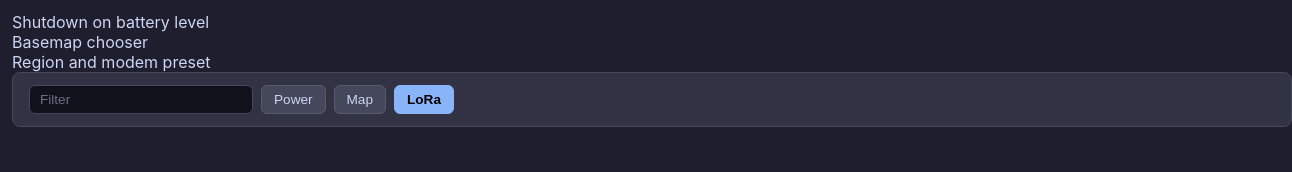
Test: SectionNav filter › matches a section by text rendered inside it, not just its heading
Type "battery" into the search field.
click(141, 100); type("battery")  # box [29, 85, 253, 114]
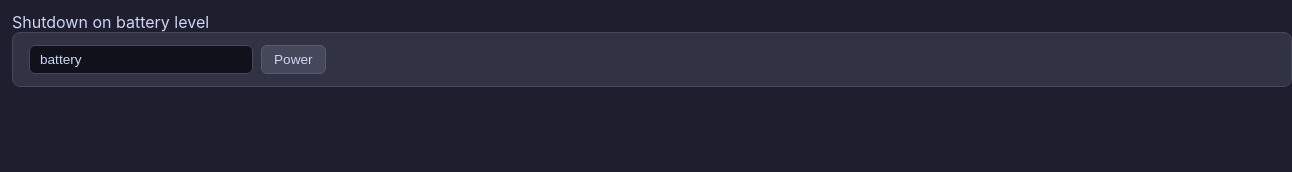
Expected: the buttons read "Power", in this order, [261, 45, 326, 74]
